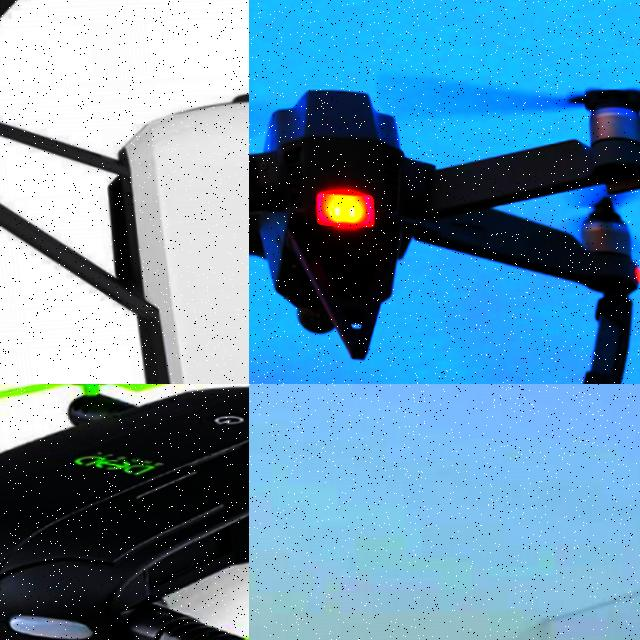drone: (249, 0, 640, 384), (0, 0, 249, 384), (0, 384, 249, 640)
